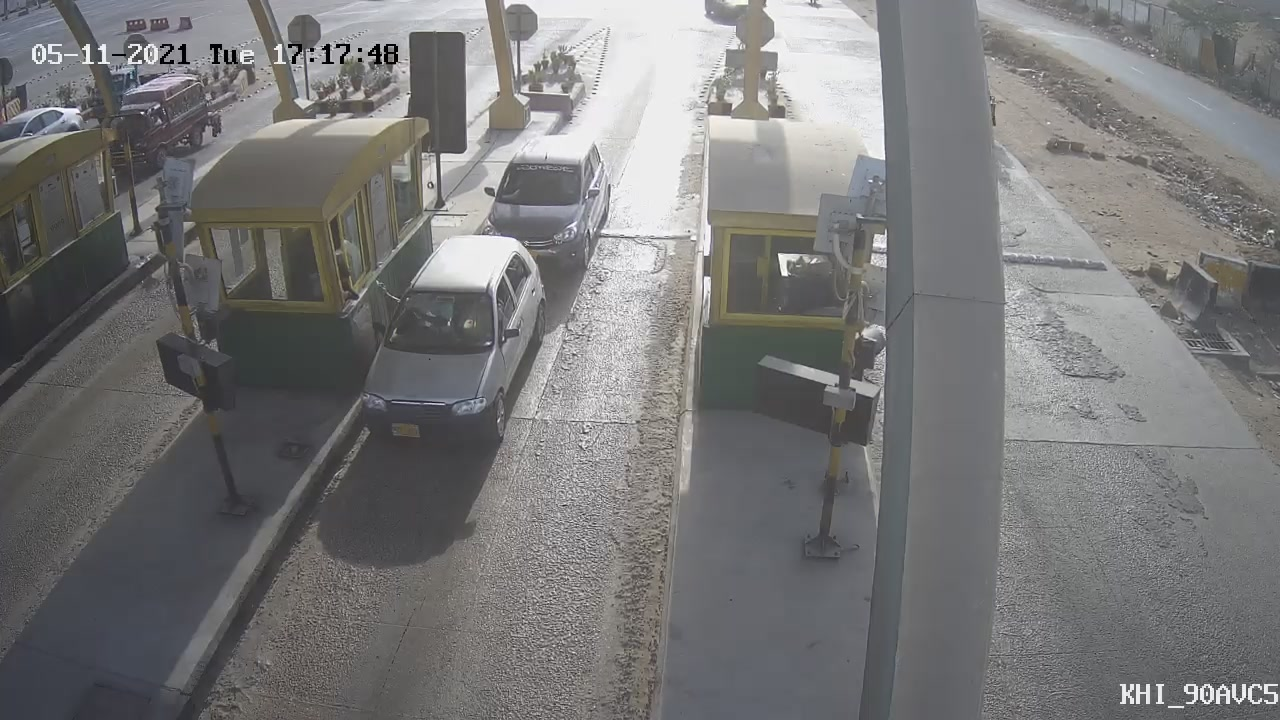F1: (344, 225, 561, 473), (464, 126, 627, 285)
